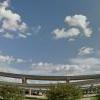Bridge: (2, 61, 98, 90)
